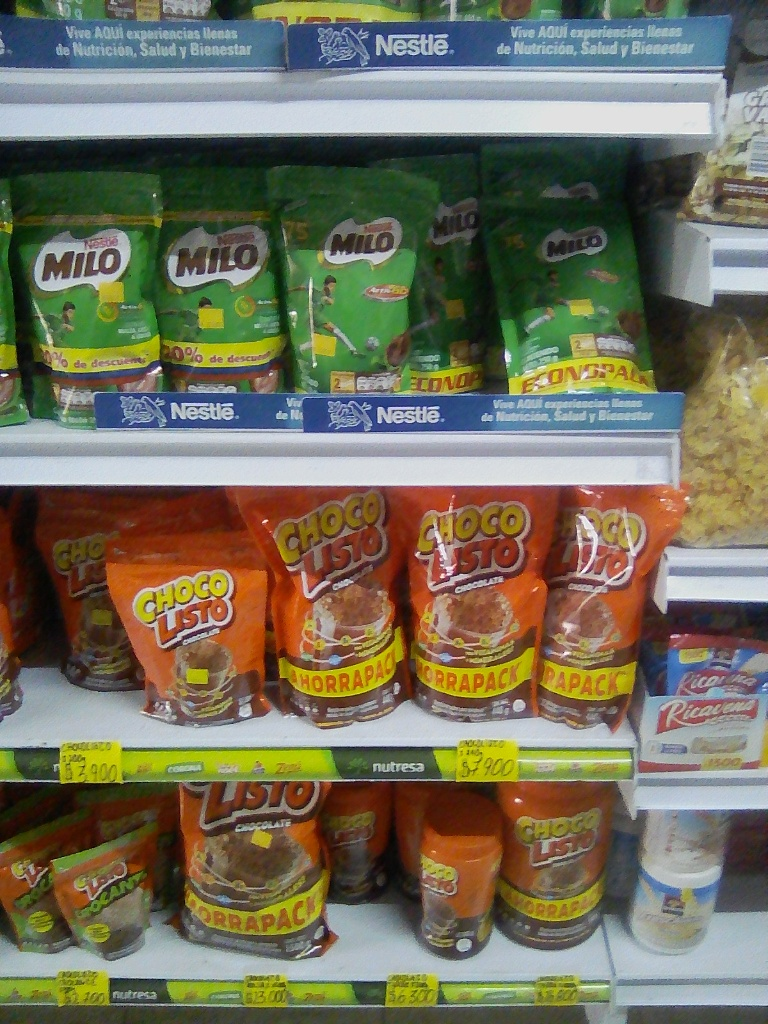COL0170102DYP10000: (51, 856, 157, 951)
COL0170103DYP1,500: (181, 784, 335, 958)
COL0170103DYP20000: (26, 493, 147, 687)
COL0170103DYP44000: (226, 486, 410, 724)
COL0170103TRR00100: (498, 784, 610, 952)
COL0170103TRR30000: (420, 795, 506, 963)
COL0170203DYP25000: (0, 156, 167, 398)
